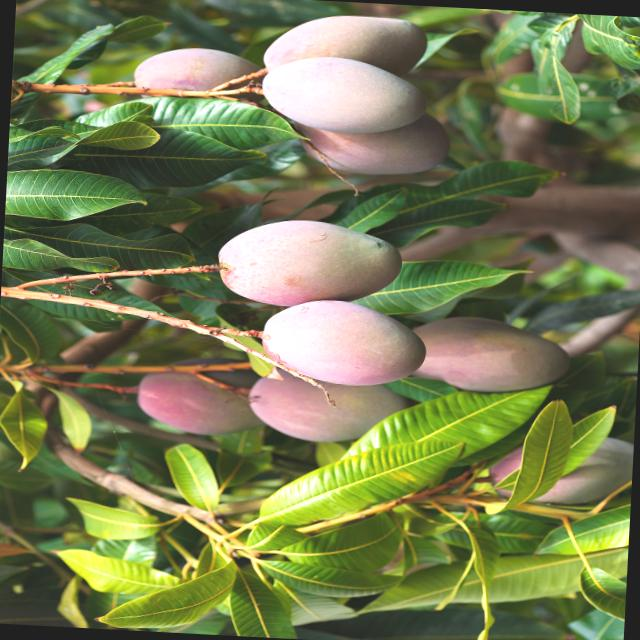mango: (208, 216, 404, 312), (242, 292, 424, 391), (259, 51, 429, 136), (246, 364, 412, 446), (410, 318, 569, 396), (262, 9, 422, 84), (294, 102, 448, 178), (136, 357, 268, 438), (132, 43, 265, 103)
